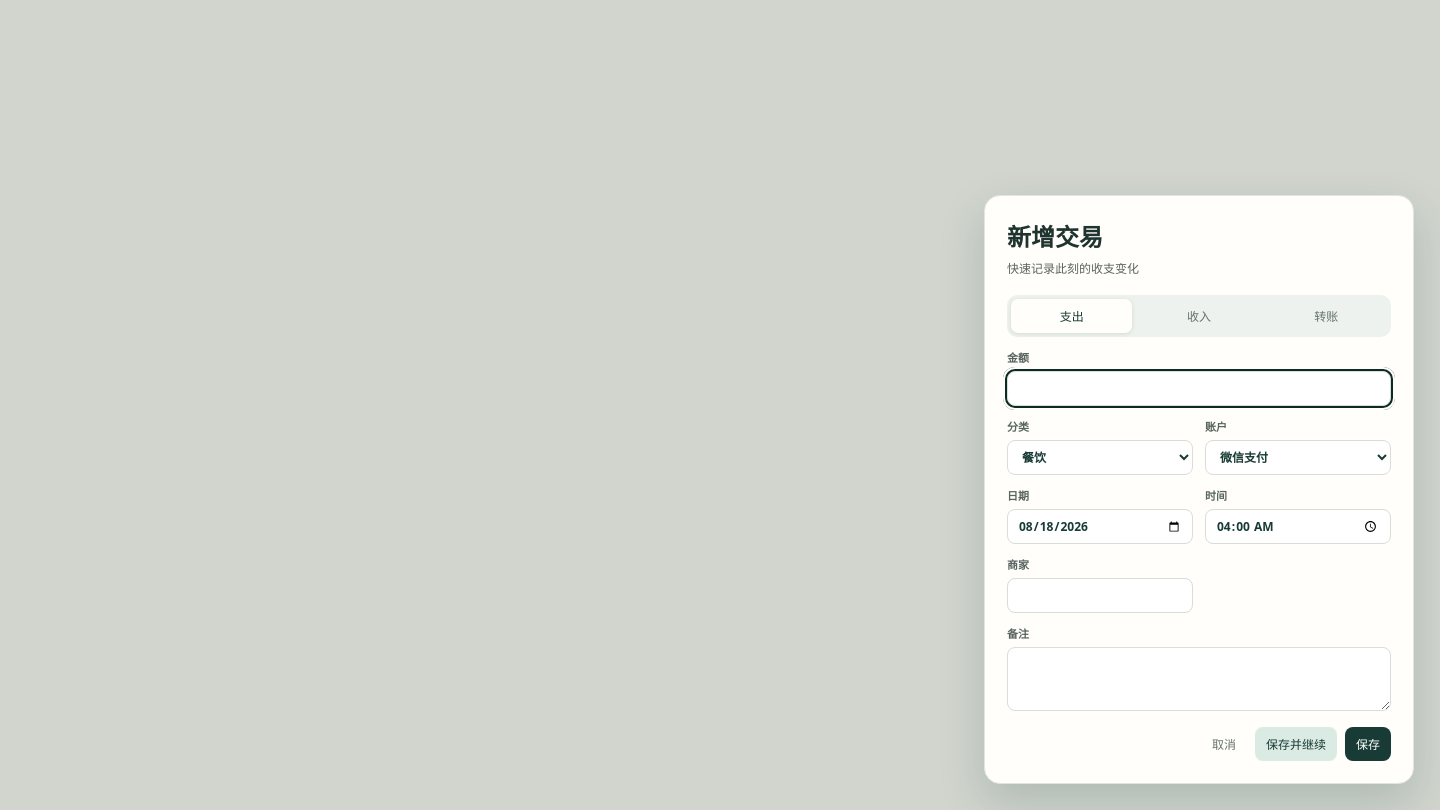
Scenario: QuickEntryDrawer › 金额为空时阻止保存、显示关联错误并聚焦金额
Click the button "保存": (1368, 744) [1345, 727, 1391, 761]
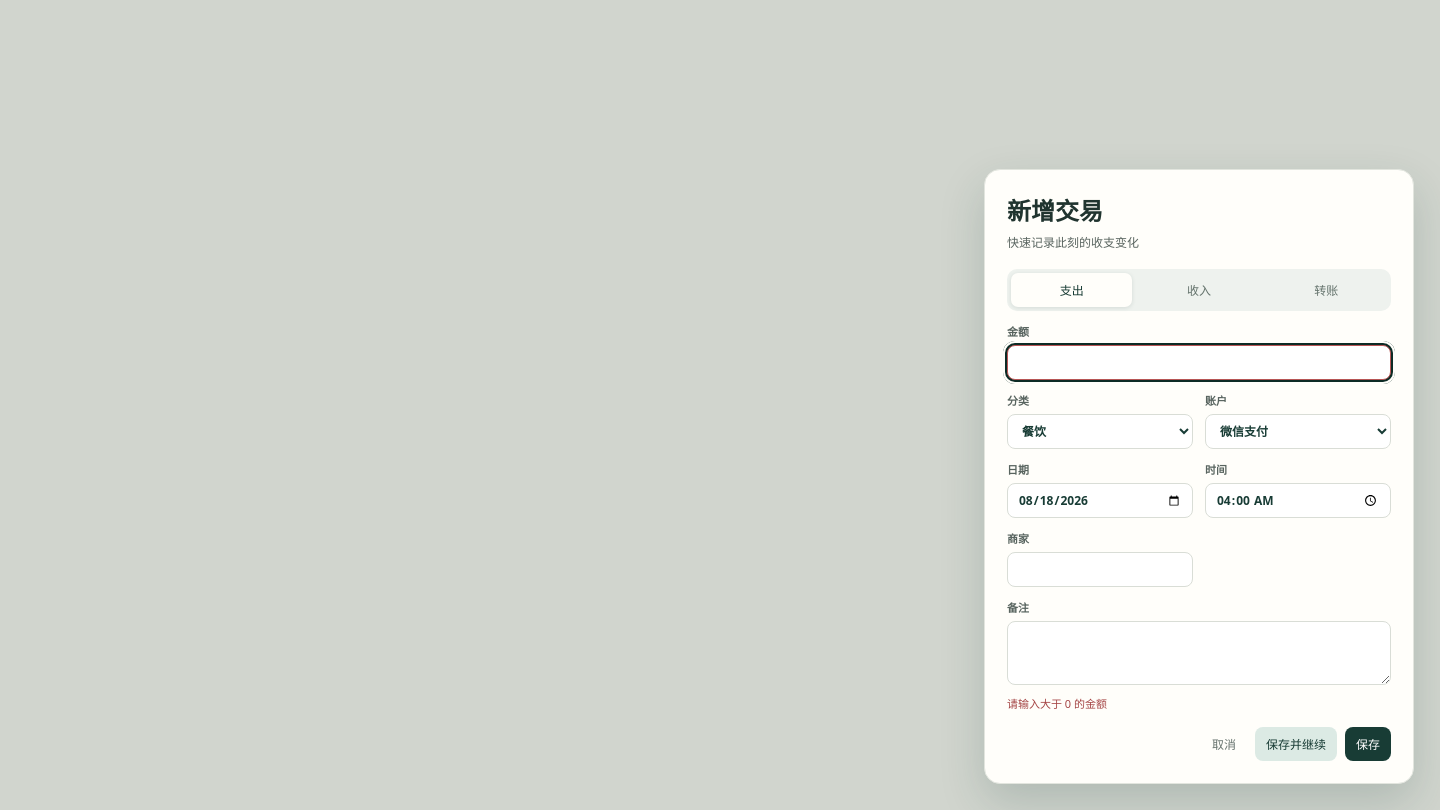
Expected: the text "请输入大于 0 的金额" is shown, [1007, 696, 1107, 711]
